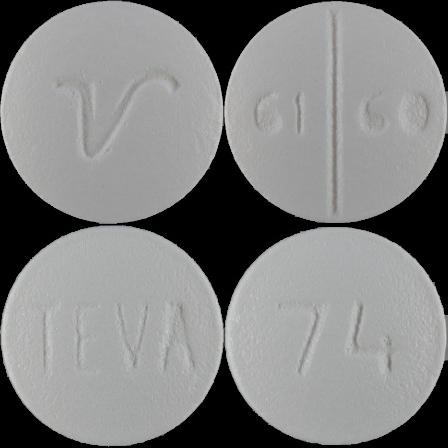63187-680: (0, 0, 224, 224)
